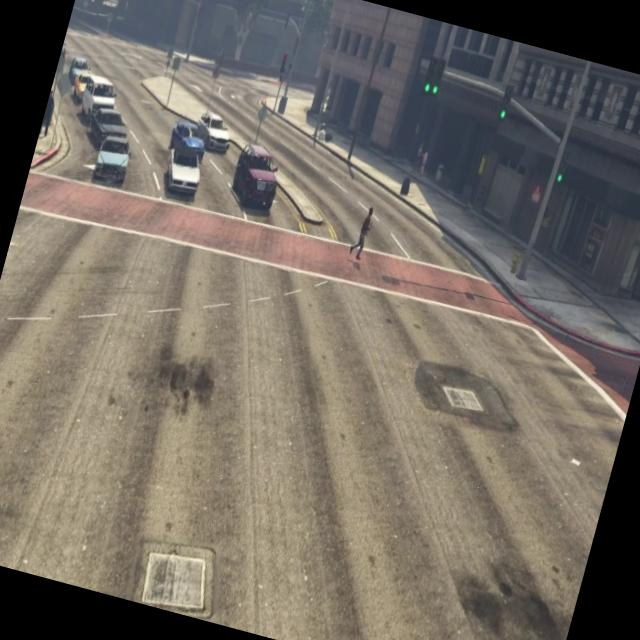Green-Signal: (416, 52, 452, 104), (548, 139, 578, 199), (493, 74, 522, 125)
